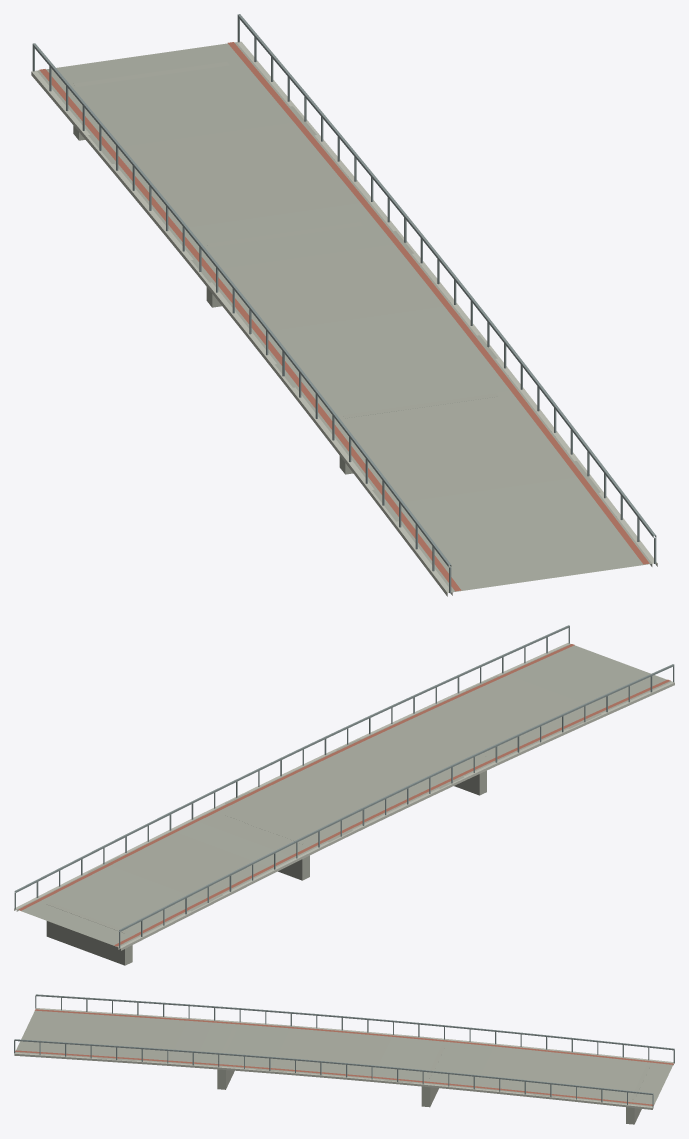
File: infra-lake-bridge-845251806.glb
3 renders of one model, top to bottom at view 1: azimuth 30°, elevation 25°; view 2: azimuth 150°, elevation 25°; view 3: azimuth 270°, elevation 25°, orthographic. The views are drawn at different scales.
Parts seen in each view (by area): view 1: infra-lake-bridge-845251806; view 2: infra-lake-bridge-845251806; view 3: infra-lake-bridge-845251806.
Part boxes in pixels (x1=…): infra-lake-bridge-845251806: x1=31, y1=14, x2=657, y2=596; infra-lake-bridge-845251806: x1=14, y1=625, x2=674, y2=965; infra-lake-bridge-845251806: x1=14, y1=994, x2=674, y2=1124.
Bounding box in the file's own units: 17.54 × 3.48 × 48.91.
